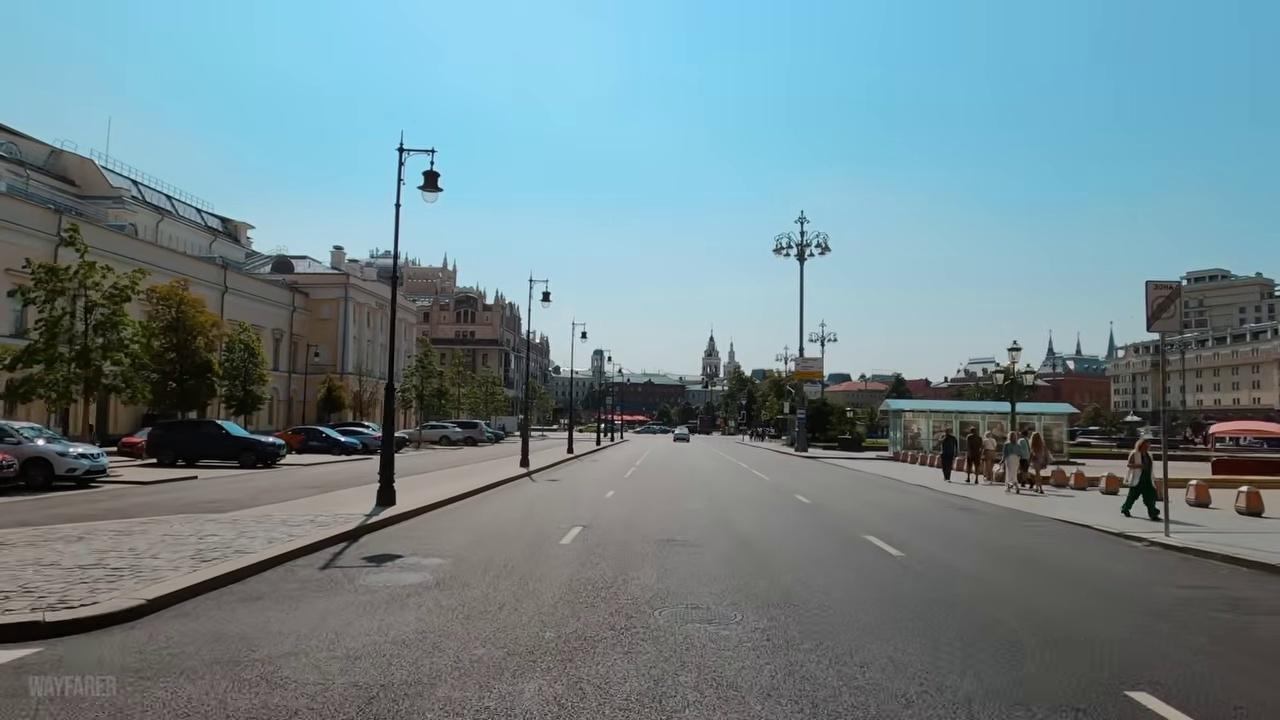apagada: (771, 231, 832, 268), (409, 166, 446, 203), (537, 290, 558, 311)
